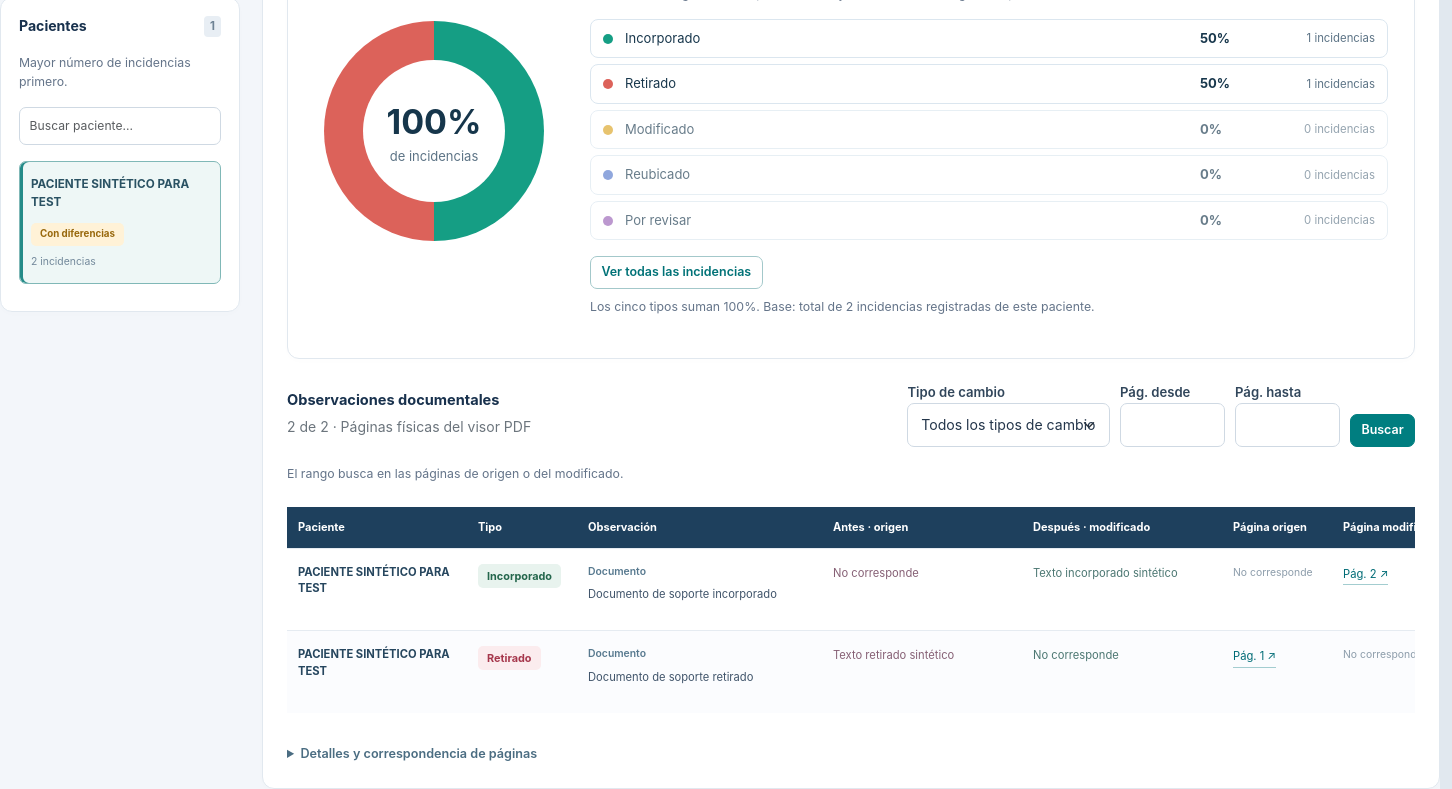
Test case: Flujo del auditor › el paciente es la primera columna y el filtro separa incorporaciones de retiradas
(page scrolled)
Check: the text "Documento de soporte incorporado" is shown, box [588,587,777,601]
Check: the column heading "Paciente" is shown, box [287,507,467,548]
Step 1. Select "Retirado" in the dropdown named "Filtrar por tipo de cambio" → (1009, 425), box [907,403,1110,447]
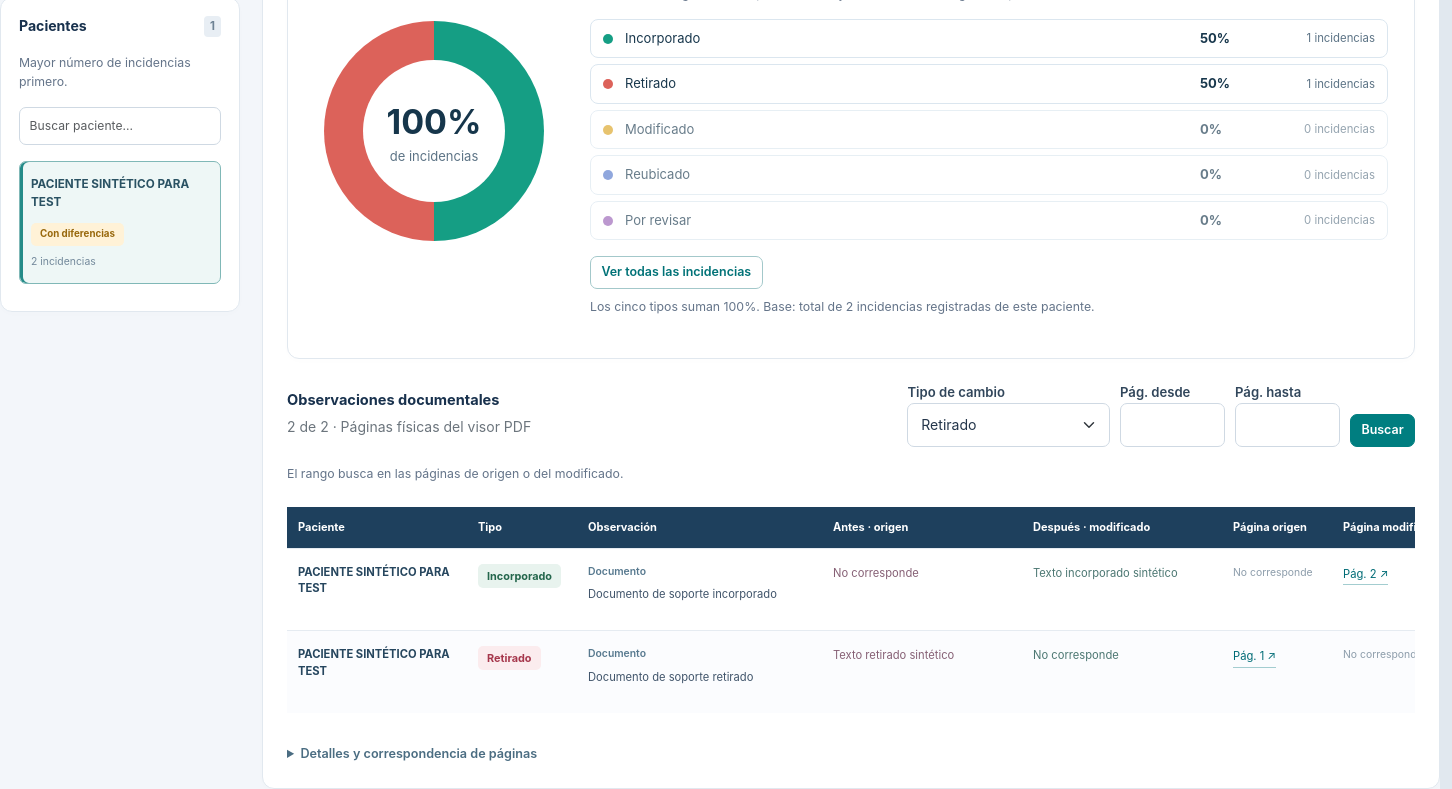
Check: the text "Documento de soporte incorporado" is shown, box [588,587,777,601]
Step 2. Click the button "Buscar" → click(1382, 430), box [1350,414,1415,447]
(page scrolled)
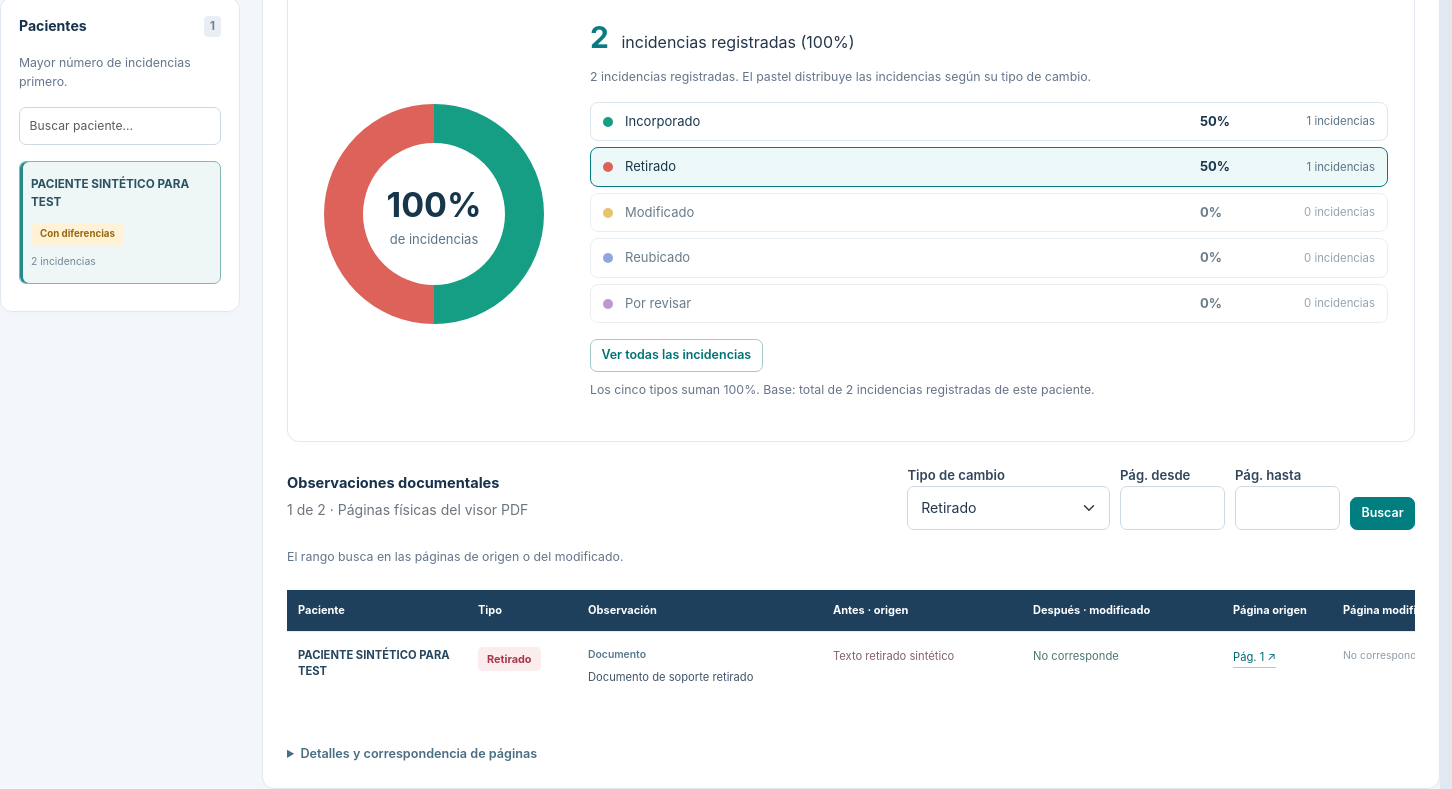
Check: the text "Documento de soporte retirado" is shown, box [588,670,753,684]
Check: the text "Documento de soporte incorporado" is gone
